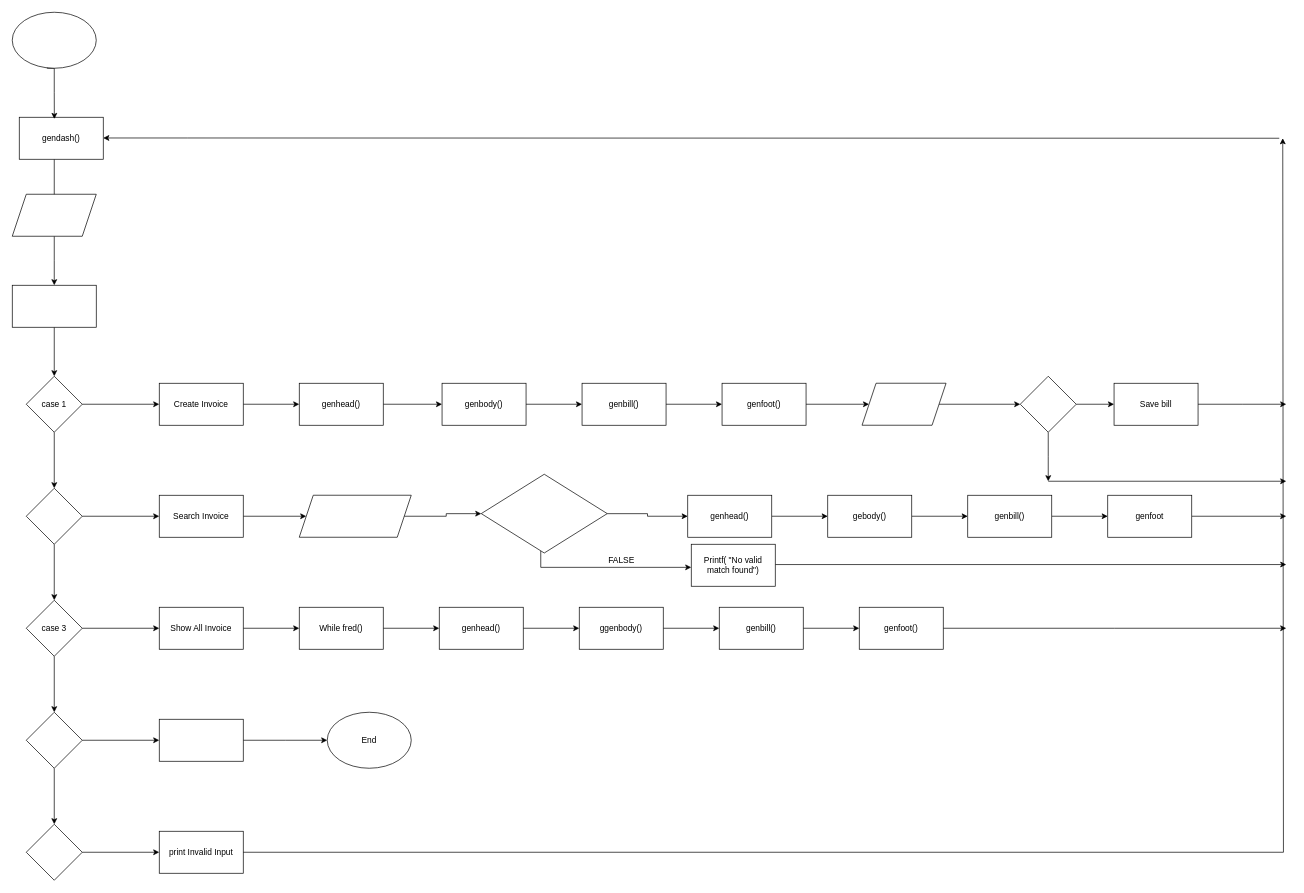
This 1304x893 diagram has some shape labels left out. The centre of each missing label's shape, as x and y in pixels:
"case 2" goes at [54,516].
"case 4" goes at [54,740].
"Default Case" goes at [54,852].
"Enter Choice" goes at [54,215].
"Exit" goes at [201,740].
"if(strcmp(customer name,customer file)==0)" goes at [544,513].
"Input Customer Name" goes at [355,516].
"Input response" goes at [903,404].
"Response=Y" goes at [1048,404].
"Start" goes at [54,40].
"Switch (Choice)" goes at [54,306].
